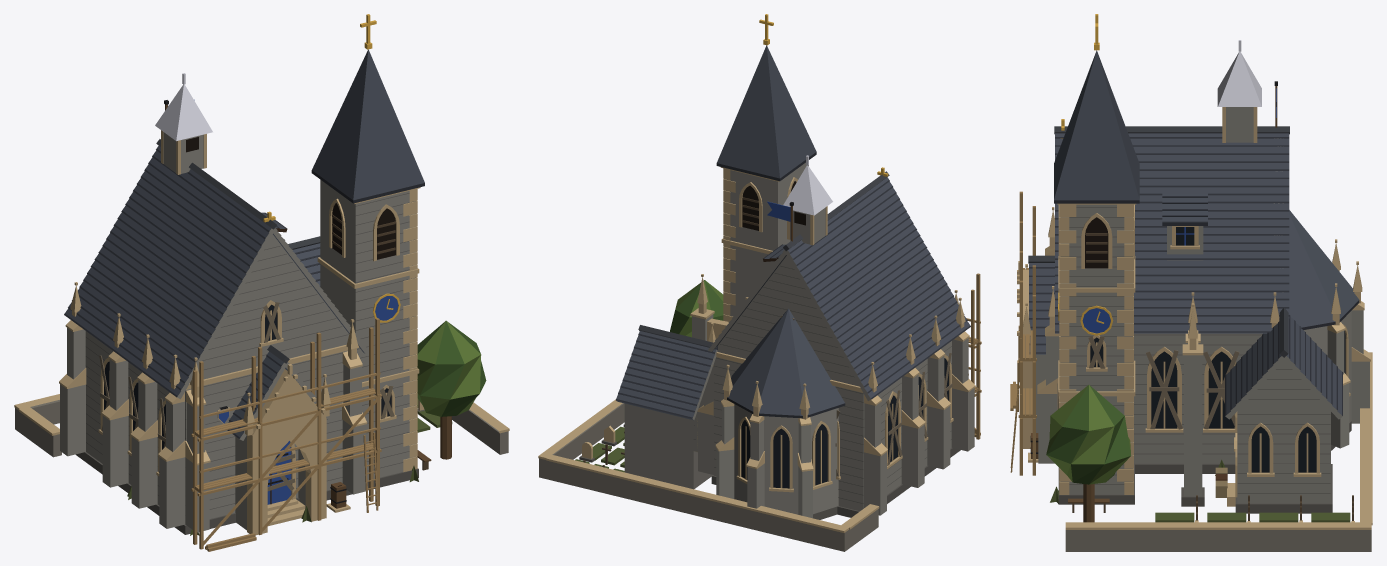
Rendered from prediger.glb.
3 renders of one model, left to right at view 1: azimuth 30°, elevation 25°; view 2: azimuth 150°, elevation 25°; view 3: azimuth 270°, elevation 25°, orthographic. The views are drawn at different scales.
Parts seen in each view (by area): view 1: Haus, Stufe3, Geruest, Stufe1, Leerstand, Stufe2; view 2: Haus, Stufe2, Stufe1, Stufe3, Geruest, Leerstand; view 3: Haus, Stufe2, Stufe1, Stufe3, Geruest, Leerstand.
Part boxes in pixels (bbox=[...]): Haus: bbox=[59, 14, 424, 534]; Stufe3: bbox=[70, 73, 358, 535]; Geruest: bbox=[191, 318, 381, 551]; Stufe1: bbox=[14, 320, 509, 470]; Leerstand: bbox=[99, 302, 418, 535]; Stufe2: bbox=[261, 212, 320, 286]; Haus: bbox=[697, 14, 975, 517]; Stufe2: bbox=[616, 244, 845, 519]; Stufe1: bbox=[538, 280, 879, 551]; Stufe3: bbox=[690, 155, 965, 419]; Geruest: bbox=[966, 273, 981, 439]; Leerstand: bbox=[780, 315, 952, 476]; Haus: bbox=[1028, 14, 1289, 504]; Stufe2: bbox=[1162, 193, 1370, 513]; Stufe1: bbox=[1046, 352, 1372, 551]; Stufe3: bbox=[1017, 40, 1362, 506]; Geruest: bbox=[1010, 191, 1036, 475]; Leerstand: bbox=[1050, 336, 1239, 503].
Bounding box in the file's own units: 16 × 20.1 × 13.92.
